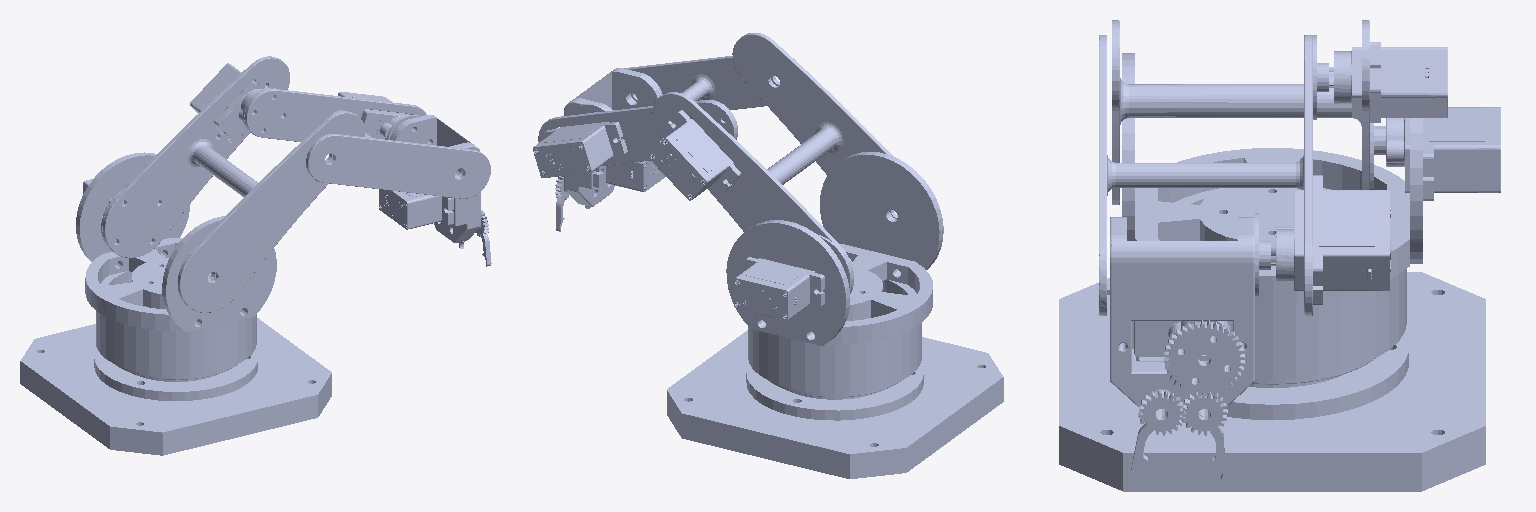
robot.urdf — robotic_arm_description:
<?xml version="1.0" encoding="utf-8"?>
<!-- This URDF was automatically created by SolidWorks to URDF Exporter! Originally created by [author] ([email redacted]) 
     Commit Version: 1.6.0-1-g15f4949  Build Version: 1.6.7594.29634
     For more information, please see http://wiki.ros.org/sw_urdf_exporter -->
<robot
  name="robotic_arm_description">
  <link
    name="base_link">
    <inertial>
      <origin
        xyz="-4.4033E-05 -9.2364E-09 0.0091905"
        rpy="0 0 0" />
      <mass
        value="0.13522" />
      <inertia
        ixx="8.2338E-05"
        ixy="7.4498E-12"
        ixz="-5.8286E-08"
        iyy="8.2221E-05"
        iyz="-3.4309E-12"
        izz="0.00016141" />
    </inertial>
    <visual>
      <origin
        xyz="0 0 0"
        rpy="0 0 0" />
      <geometry>
        <mesh
          filename="package://robotic_arm_description/meshes/base_link.STL" />
      </geometry>
      <material
        name="">
        <color
          rgba="0.79216 0.81961 0.93333 1" />
      </material>
    </visual>
    <collision>
      <origin
        xyz="0 0 0"
        rpy="0 0 0" />
      <geometry>
        <mesh
          filename="package://robotic_arm_description/meshes/base_link.STL" />
      </geometry>
    </collision>
  </link>
  <link
    name="link_1">
    <inertial>
      <origin
        xyz="-0.00012346 0.0054526 0.027055"
        rpy="0 0 0" />
      <mass
        value="0.050412" />
      <inertia
        ixx="1.5547E-05"
        ixy="-9.7433E-09"
        ixz="-3.2877E-10"
        iyy="1.8456E-05"
        iyz="-3.4308E-12"
        izz="2.6201E-05" />
    </inertial>
    <visual>
      <origin
        xyz="0 0 0"
        rpy="0 0 0" />
      <geometry>
        <mesh
          filename="package://robotic_arm_description/meshes/link_1.STL" />
      </geometry>
      <material
        name="">
        <color
          rgba="0.79216 0.81961 0.93333 1" />
      </material>
    </visual>
    <collision>
      <origin
        xyz="0 0 0"
        rpy="0 0 0" />
      <geometry>
        <mesh
          filename="package://robotic_arm_description/meshes/link_1.STL" />
      </geometry>
    </collision>
  </link>
  <joint
    name="joint_1"
    type="continuous">
    <origin
      xyz="0 0 0.0205"
      rpy="0 0 0" />
    <parent
      link="base_link" />
    <child
      link="link_1" />
    <axis
      xyz="0 0 -1" />
  </joint>
  <link
    name="link_2">
    <inertial>
      <origin
        xyz="0.033324 0.0051435 0.026957"
        rpy="0 0 0" />
      <mass
        value="0.019226" />
      <inertia
        ixx="1.161E-05"
        ixy="3.9949E-07"
        ixz="-3.1029E-06"
        iyy="7.5692E-06"
        iyz="2.9193E-07"
        izz="1.2914E-05" />
    </inertial>
    <visual>
      <origin
        xyz="0 0 0"
        rpy="0 0 0" />
      <geometry>
        <mesh
          filename="package://robotic_arm_description/meshes/link_2.STL" />
      </geometry>
      <material
        name="">
        <color
          rgba="0.79216 0.81961 0.93333 1" />
      </material>
    </visual>
    <collision>
      <origin
        xyz="0 0 0"
        rpy="0 0 0" />
      <geometry>
        <mesh
          filename="package://robotic_arm_description/meshes/link_2.STL" />
      </geometry>
    </collision>
  </link>
  <joint
    name="joint_2"
    type="continuous">
    <origin
      xyz="-0.00515 0 0.04435"
      rpy="0 0 0" />
    <parent
      link="link_1" />
    <child
      link="link_2" />
    <axis
      xyz="0 -1 0" />
  </joint>
  <link
    name="link_3">
    <inertial>
      <origin
        xyz="0.041207 -0.0014508 -0.01416"
        rpy="0 0 0" />
      <mass
        value="0.014517" />
      <inertia
        ixx="4.2489E-06"
        ixy="3.2512E-07"
        ixz="9.9511E-07"
        iyy="3.8216E-06"
        iyz="-1.1177E-07"
        izz="6.8027E-06" />
    </inertial>
    <visual>
      <origin
        xyz="0 0 0"
        rpy="0 0 0" />
      <geometry>
        <mesh
          filename="package://robotic_arm_description/meshes/link_3.STL" />
      </geometry>
      <material
        name="">
        <color
          rgba="0.79216 0.81961 0.93333 1" />
      </material>
    </visual>
    <collision>
      <origin
        xyz="0 0 0"
        rpy="0 0 0" />
      <geometry>
        <mesh
          filename="package://robotic_arm_description/meshes/link_3.STL" />
      </geometry>
    </collision>
  </link>
  <joint
    name="joint_3"
    type="continuous">
    <origin
      xyz="0.051117 0 0.04015"
      rpy="0 0 0" />
    <parent
      link="link_2" />
    <child
      link="link_3" />
    <axis
      xyz="0 -1 0" />
  </joint>
  <link
    name="end_effector">
    <inertial>
      <origin
        xyz="0.00022284 -0.020701 -0.014202"
        rpy="0 0 0" />
      <mass
        value="0.015554" />
      <inertia
        ixx="3.0068E-06"
        ixy="-1.0568E-08"
        ixz="2.0515E-07"
        iyy="1.7554E-06"
        iyz="-2.5581E-09"
        izz="1.8545E-06" />
    </inertial>
    <visual>
      <origin
        xyz="0 0 0"
        rpy="0 0 0" />
      <geometry>
        <mesh
          filename="package://robotic_arm_description/meshes/end_effector.STL" />
      </geometry>
      <material
        name="">
        <color
          rgba="0.79216 0.81961 0.93333 1" />
      </material>
    </visual>
    <collision>
      <origin
        xyz="0 0 0"
        rpy="0 0 0" />
      <geometry>
        <mesh
          filename="package://robotic_arm_description/meshes/end_effector.STL" />
      </geometry>
    </collision>
  </link>
  <joint
    name="joint_4"
    type="continuous">
    <origin
      xyz="0.058386 0 -0.02"
      rpy="0 0 0" />
    <parent
      link="link_3" />
    <child
      link="end_effector" />
    <axis
      xyz="0 -1 0" />
  </joint>
  <link
    name="gripper">
    <inertial>
      <origin
        xyz="0.01753 -0.0022519 -0.0070303"
        rpy="0 0 0" />
      <mass
        value="0.0008242" />
      <inertia
        ixx="3.0387E-08"
        ixy="-2.3851E-23"
        ixz="5.8982E-23"
        iyy="1.7833E-08"
        iyz="-3.6695E-10"
        izz="1.3103E-08" />
    </inertial>
    <visual>
      <origin
        xyz="0 0 0"
        rpy="0 0 0" />
      <geometry>
        <mesh
          filename="package://robotic_arm_description/meshes/gripper.STL" />
      </geometry>
      <material
        name="">
        <color
          rgba="0.79216 0.81961 0.93333 1" />
      </material>
    </visual>
    <collision>
      <origin
        xyz="0 0 0"
        rpy="0 0 0" />
      <geometry>
        <mesh
          filename="package://robotic_arm_description/meshes/gripper.STL" />
      </geometry>
    </collision>
  </link>
  <joint
    name="joint_5"
    type="continuous">
    <origin
      xyz="0 -0.015925 -0.01717"
      rpy="0 0 0" />
    <parent
      link="end_effector" />
    <child
      link="gripper" />
    <axis
      xyz="-1 0 0" />
  </joint>
</robot>

--- Render facts (derived) ---
The picture shows the robot from 3 angles, left to right: view 1: azimuth 30°, elevation 25°; view 2: azimuth 150°, elevation 25°; view 3: azimuth 270°, elevation 25°; orthographic projection.
Model robotic_arm_description with 6 links and 5 joints (5 continuous), rooted at base_link, posed all joints at 0.
Visible links, largest first — view 1: link_2, base_link, link_1, link_3, end_effector; view 2: link_1, base_link, link_2, link_3, end_effector; view 3: base_link, link_1, link_3, end_effector, link_2, gripper.
Link boxes in pixels (x1,y1,x2,y2): link_2: [103, 56, 364, 312]; base_link: [20, 306, 331, 455]; link_1: [76, 152, 276, 375]; link_3: [244, 89, 490, 198]; end_effector: [379, 115, 480, 242]; link_1: [726, 152, 943, 393]; base_link: [667, 318, 1003, 478]; link_2: [648, 33, 897, 293]; link_3: [533, 56, 793, 177]; end_effector: [564, 68, 665, 206]; base_link: [1059, 272, 1485, 491]; link_1: [1122, 53, 1500, 378]; link_3: [1099, 35, 1390, 315]; end_effector: [1110, 217, 1254, 416]; link_2: [1112, 20, 1447, 204]; gripper: [1131, 320, 1244, 478].
Size in the robot's own frame: 0.1729 by 0.1035 by 0.1219 metres.
6 mesh visuals loaded from 6 distinct referenced files (6 binary STL).